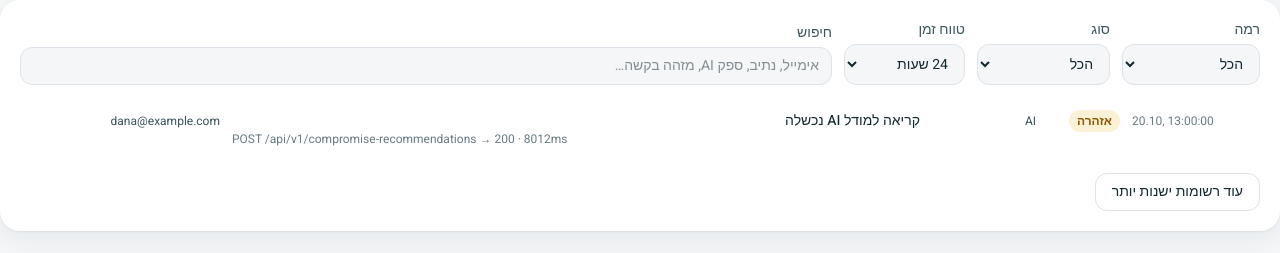
Test case: LogsTab › sends the filters and pages to older entries
The width and height of the screenshot is (1280, 253).
Expected: the text "קריאה למודל AI נכשלה" is shown, [785,110,920,131]
Select "שגיאות בלבד" in the dropdown labelled "רמה". click: coordinates (1191, 64)
box: [1122,44,1260,85]
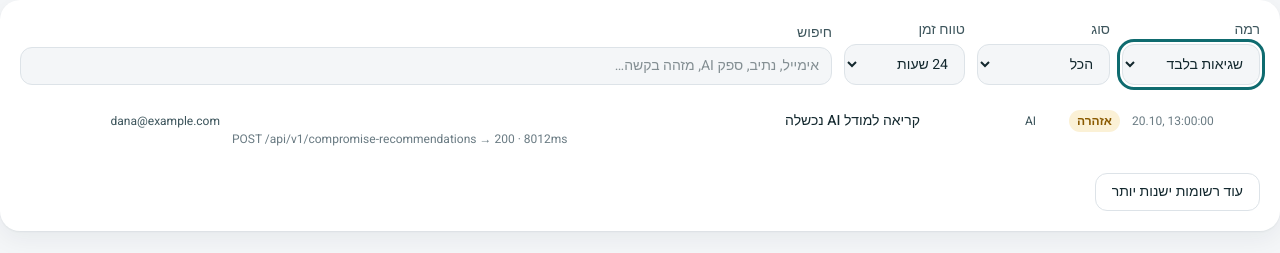
Select "AI" in the dropdown labelled "סוג". click: coordinates (1044, 64)
box: [977,44,1110,85]
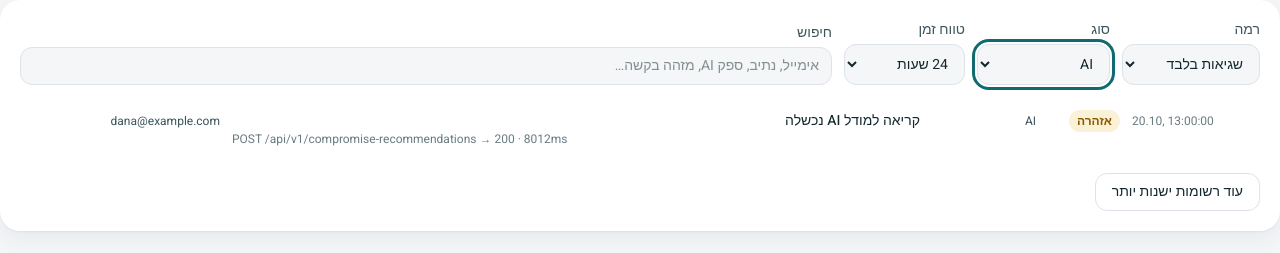
Type "gemini" into the search field labelled "חיפוש". click: coordinates (426, 66)
box: [20,47,832,85]
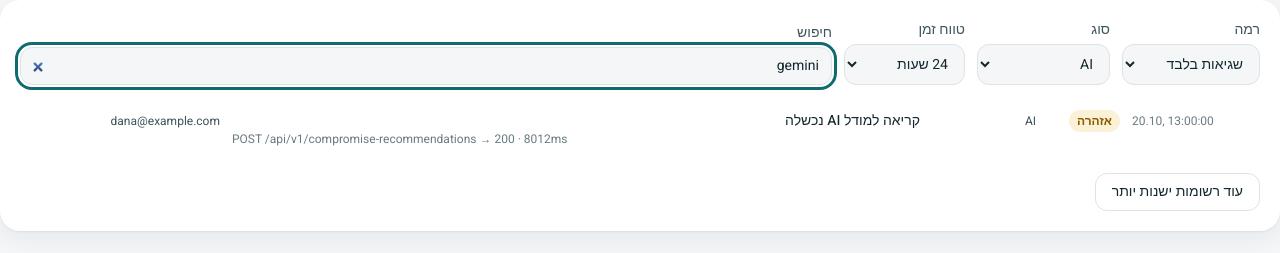
Click the button "עוד רשומות ישנות יותר". click: coordinates (1177, 192)
box: [1095,173,1260,211]
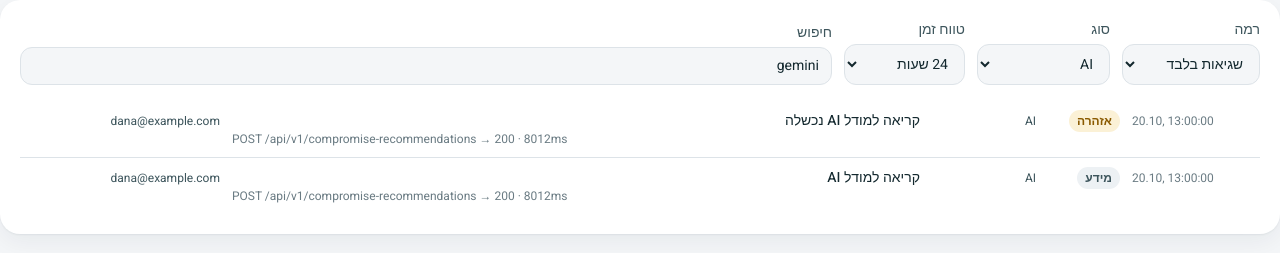
Expected: the text "קריאה למודל AI" is shown, [827,167,920,188]
